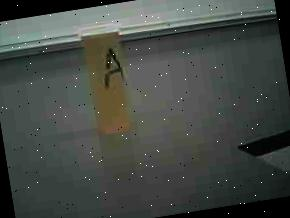Bottle A: (70, 13, 155, 149)
